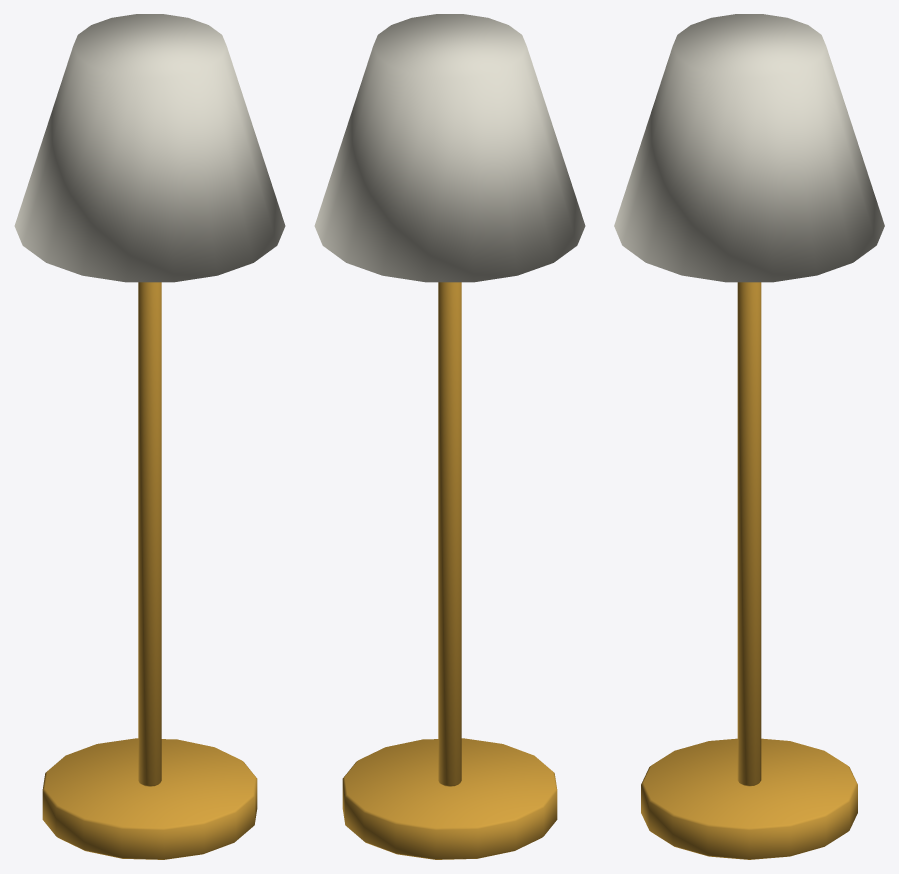
Rendered from prop_floor_lamp.obj.
3 renders of one model, left to right at view 1: azimuth 30°, elevation 25°; view 2: azimuth 150°, elevation 25°; view 3: azimuth 270°, elevation 25°, orthographic.
Visible parts, largest first — view 1: Shade, Base, Pole; view 2: Shade, Base, Pole; view 3: Shade, Base, Pole.
Part boxes in pixels (x1,y1,x2,y2): Shade: [14, 14, 285, 282]; Base: [42, 738, 257, 859]; Pole: [138, 282, 161, 786]; Shade: [314, 14, 585, 282]; Base: [342, 738, 557, 859]; Pole: [438, 282, 461, 786]; Shade: [614, 14, 884, 282]; Base: [641, 738, 857, 859]; Pole: [737, 282, 761, 786].
Size of the model in its own units: 0.5909 by 1.88 by 0.6.
